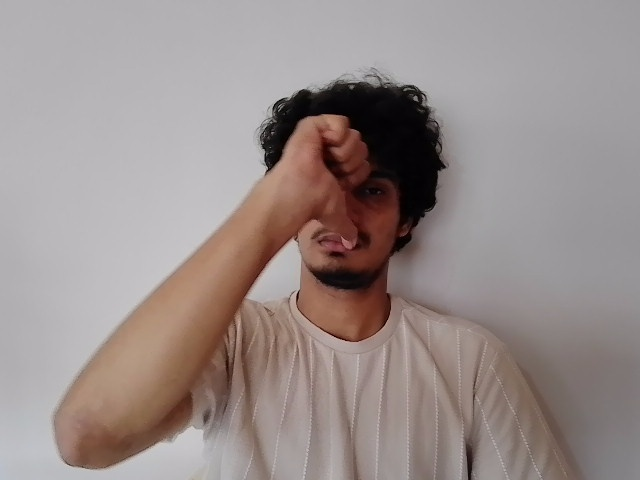drink: (265, 117, 411, 289)
